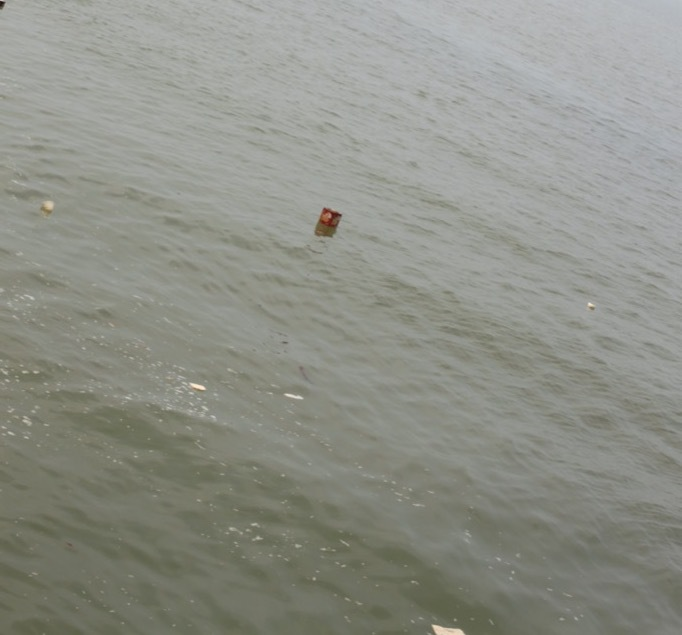plastic: (307, 199, 349, 242), (424, 612, 469, 635), (277, 383, 313, 411), (183, 375, 215, 398), (33, 198, 62, 218), (581, 295, 601, 316)
